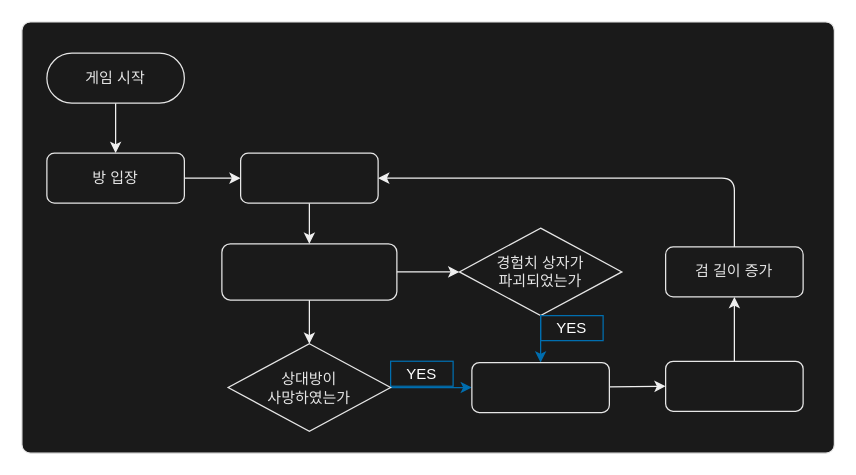
This 856x475 diagram has some shape labels left out. The shapes that lost their labels are listed below. From the top down, each one's centre as x and y in pixels, then its label:
(308,177): 주변 탐색
(309,271): 플레이어 or 경험치 상자 공격
(540,386): 경험치 생성
(733,385): 경험치 획득
